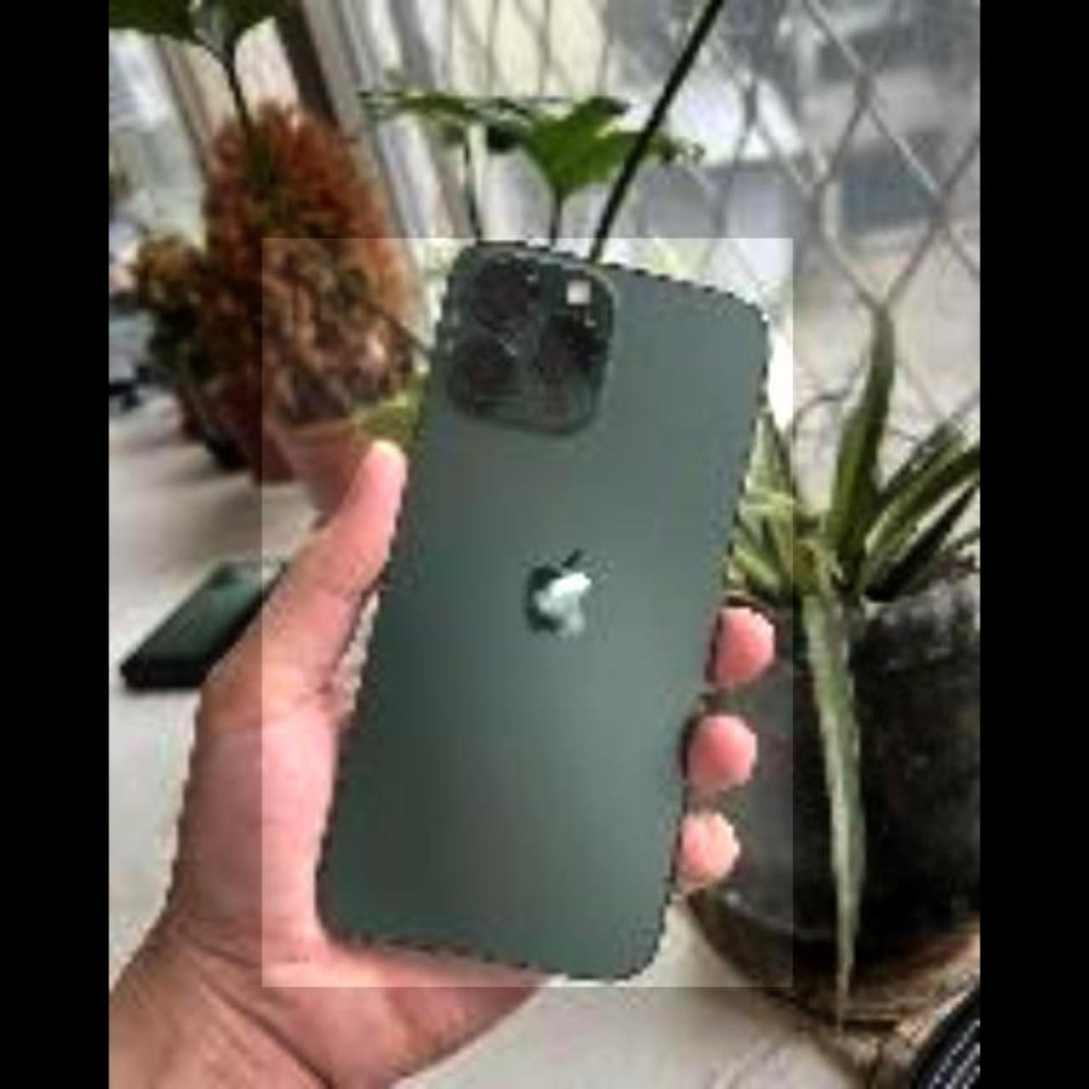phone: (313, 230, 795, 989)
